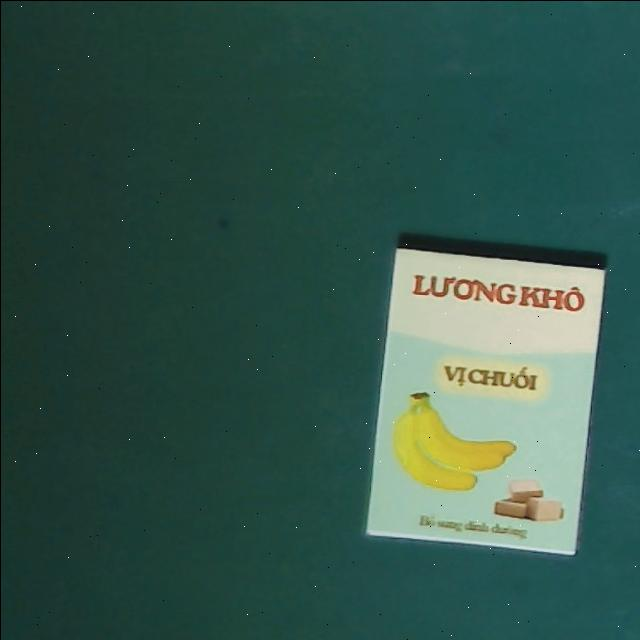chuoi: (366, 246, 606, 556)
